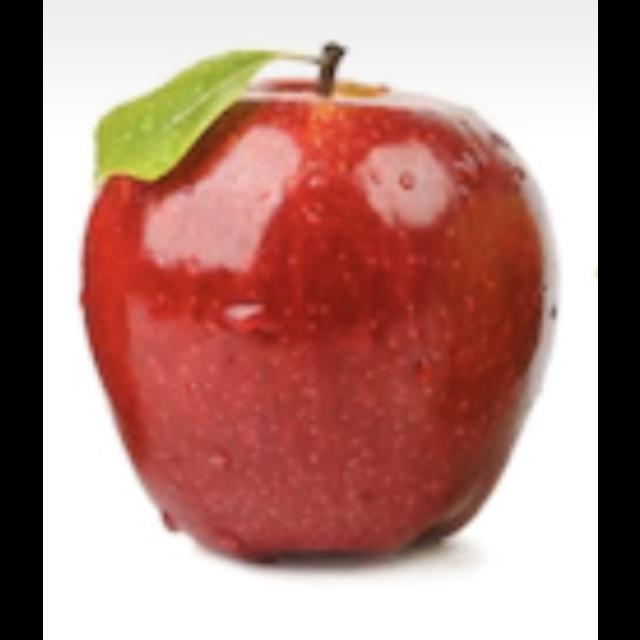Apel Segar: (94, 38, 560, 572)
